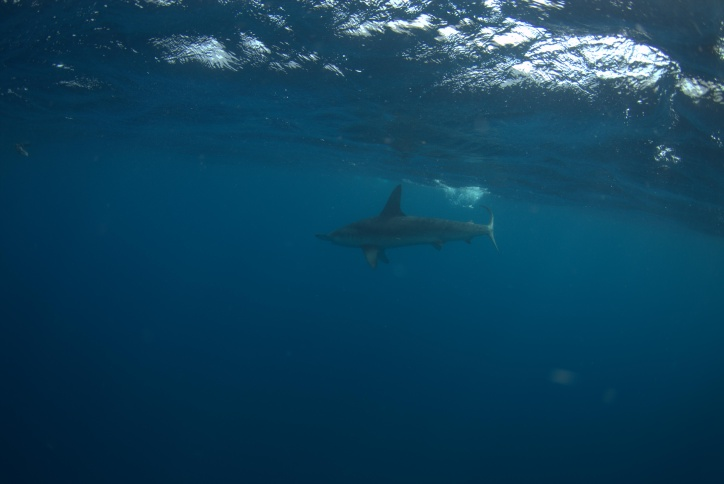Hammer: (305, 181, 520, 293)
